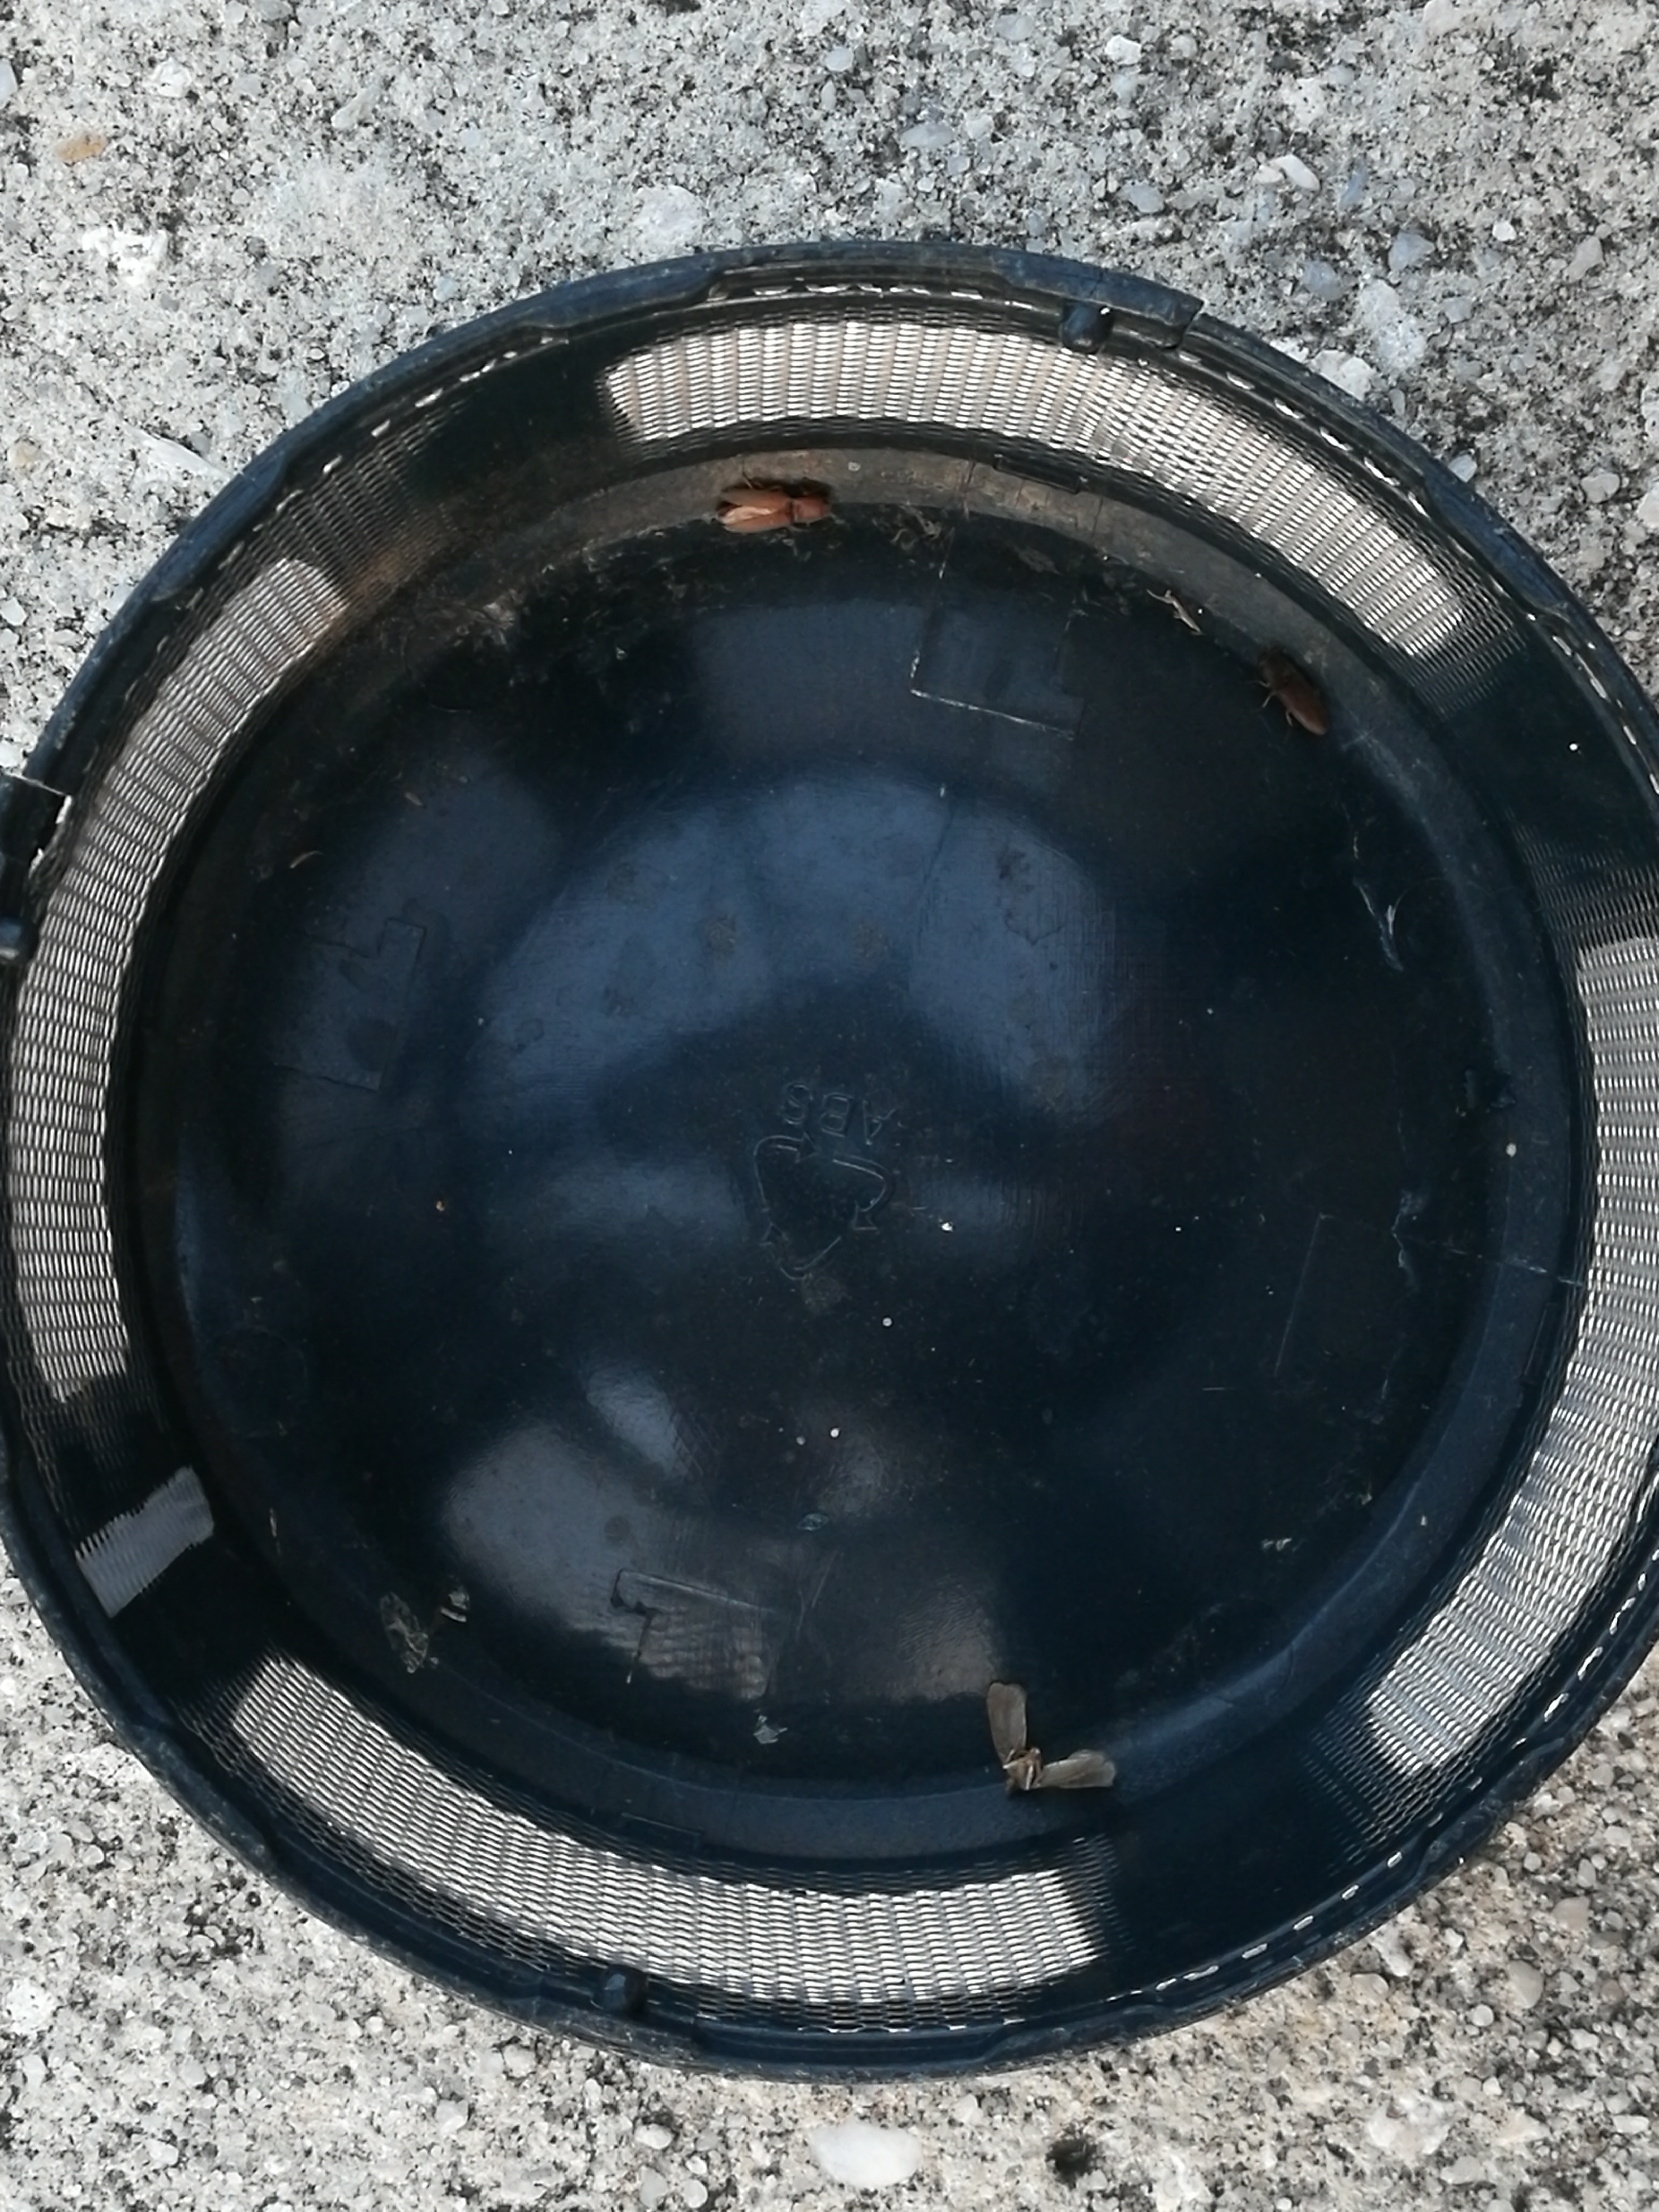mosquito: (1258, 646, 1328, 735), (723, 484, 826, 528)
moth: (988, 1686, 1114, 1791)
